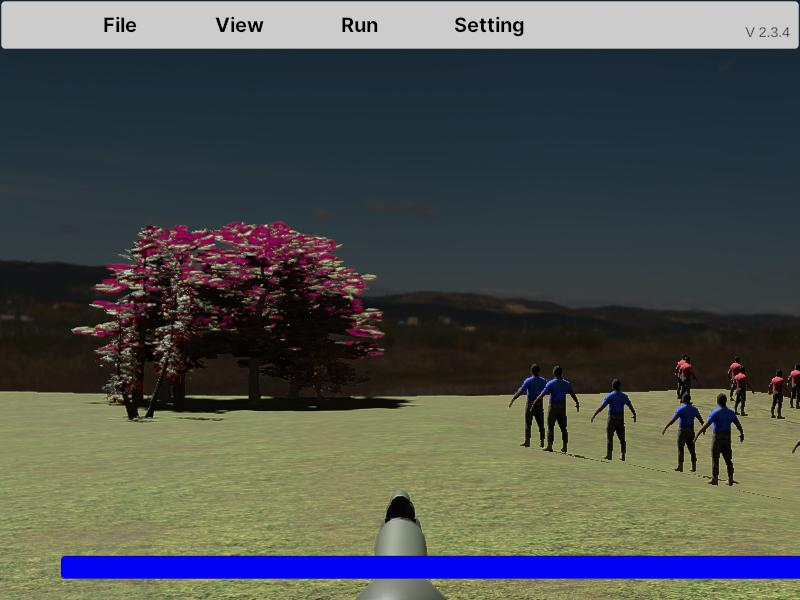Human: (528, 365, 580, 454), (694, 393, 744, 485), (509, 363, 563, 447), (509, 364, 559, 447), (591, 377, 636, 462), (663, 392, 707, 473), (768, 368, 792, 419), (730, 365, 754, 416), (677, 355, 699, 406), (791, 406, 800, 495), (785, 363, 800, 410)
